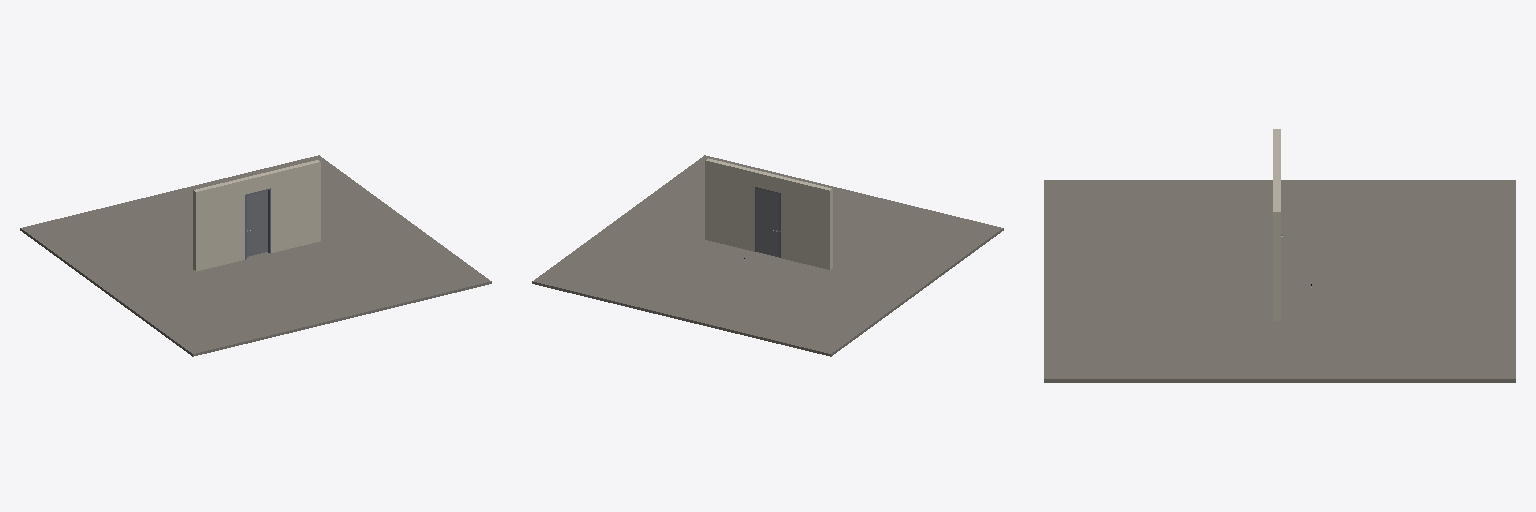
URDF robot description (db0485_swing_single_simple):
<?xml version="1.0" ?>
<robot xmlns:doorbench="https://github.com/adamraudonis/DoorBench/schema/urdf-ext" name="db0485_swing_single_simple">
  <link name="world_env">
    <visual name="floor_vis">
      <origin xyz="0 0 -0.05" rpy="0 0 0"/>
      <geometry>
        <box size="12 12 0.1"/>
      </geometry>
      <material name="mat_floor"/>
    </visual>
    <collision name="floor_col">
      <origin xyz="0 0 -0.05" rpy="0 0 0"/>
      <geometry>
        <box size="12 12 0.1"/>
      </geometry>
    </collision>
    <visual name="wall_left_vis">
      <origin xyz="-1.52025 -0.071 1.5255" rpy="0 0 0"/>
      <geometry>
        <box size="1.9595 0.2 3.051"/>
      </geometry>
      <material name="mat_wall"/>
    </visual>
    <collision name="wall_left_col">
      <origin xyz="-1.52025 -0.071 1.5255" rpy="0 0 0"/>
      <geometry>
        <box size="1.9595 0.2 3.051"/>
      </geometry>
    </collision>
    <visual name="wall_right_vis">
      <origin xyz="1.50525 -0.071 1.5255" rpy="0 0 0"/>
      <geometry>
        <box size="1.9895 0.2 3.051"/>
      </geometry>
      <material name="mat_wall"/>
    </visual>
    <collision name="wall_right_col">
      <origin xyz="1.50525 -0.071 1.5255" rpy="0 0 0"/>
      <geometry>
        <box size="1.9895 0.2 3.051"/>
      </geometry>
    </collision>
    <visual name="wall_header_vis">
      <origin xyz="-0.015 -0.071 2.791" rpy="0 0 0"/>
      <geometry>
        <box size="1.051 0.2 0.52"/>
      </geometry>
      <material name="mat_wall"/>
    </visual>
    <collision name="wall_header_col">
      <origin xyz="-0.015 -0.071 2.791" rpy="0 0 0"/>
      <geometry>
        <box size="1.051 0.2 0.52"/>
      </geometry>
    </collision>
    <visual name="hinge_0_jamb_vis">
      <origin xyz="0.4575 0.029 0.259" rpy="0 0 3.141593"/>
      <geometry>
        <mesh filename="../../hardware/hinge_jamb_e1d088f8dc.obj"/>
      </geometry>
      <material name="mat_hinge"/>
    </visual>
    <visual name="hinge_1_jamb_vis">
      <origin xyz="0.4575 0.029 1.228" rpy="0 0 3.141593"/>
      <geometry>
        <mesh filename="../../hardware/hinge_jamb_e1d088f8dc.obj"/>
      </geometry>
      <material name="mat_hinge"/>
    </visual>
    <visual name="hinge_2_jamb_vis">
      <origin xyz="0.4575 0.029 2.267" rpy="0 0 3.141593"/>
      <geometry>
        <mesh filename="../../hardware/hinge_jamb_e1d088f8dc.obj"/>
      </geometry>
      <material name="mat_hinge"/>
    </visual>
    <visual name="jamb_hinge_vis">
      <origin xyz="0.4855 -0.071 1.2255" rpy="0 0 0"/>
      <geometry>
        <box size="0.05 0.2 2.451"/>
      </geometry>
      <material name="mat_frame"/>
    </visual>
    <collision name="jamb_hinge_col">
      <origin xyz="0.4855 -0.071 1.2255" rpy="0 0 0"/>
      <geometry>
        <box size="0.05 0.2 2.451"/>
      </geometry>
    </collision>
    <visual name="strike_1016_wall_n_vis">
      <origin xyz="-0.5005 -0.09025 1.016" rpy="0 0 0"/>
      <geometry>
        <box size="0.08 0.1615 0.0366"/>
      </geometry>
      <material name="mat_frame"/>
    </visual>
    <collision name="strike_1016_wall_n_col">
      <origin xyz="-0.5005 -0.09025 1.016" rpy="0 0 0"/>
      <geometry>
        <box size="0.08 0.1615 0.0366"/>
      </geometry>
    </collision>
    <visual name="strike_1016_wall_p_vis">
      <origin xyz="-0.5005 0.0175 1.016" rpy="0 0 0"/>
      <geometry>
        <box size="0.08 0.016 0.0366"/>
      </geometry>
      <material name="mat_frame"/>
    </visual>
    <collision name="strike_1016_wall_p_col">
      <origin xyz="-0.5005 0.0175 1.016" rpy="0 0 0"/>
      <geometry>
        <box size="0.08 0.016 0.0366"/>
      </geometry>
    </collision>
    <visual name="strike_1016_ramp_vis">
      <origin xyz="-0.503782 0.018312 1.016" rpy="0 0 0.588003"/>
      <geometry>
        <box size="0.08 0.036056 0.0366"/>
      </geometry>
      <material name="mat_frame"/>
    </visual>
    <collision name="strike_1016_ramp_col">
      <origin xyz="-0.503782 0.018312 1.016" rpy="0 0 0.588003"/>
      <geometry>
        <box size="0.08 0.036056 0.0366"/>
      </geometry>
    </collision>
    <visual name="strike_1016_back_vis">
      <origin xyz="-0.512 0 1.016" rpy="0 0 0"/>
      <geometry>
        <box size="0.057 0.019 0.0366"/>
      </geometry>
      <material name="mat_frame"/>
    </visual>
    <collision name="strike_1016_back_col">
      <origin xyz="-0.512 0 1.016" rpy="0 0 0"/>
      <geometry>
        <box size="0.057 0.019 0.0366"/>
      </geometry>
    </collision>
    <visual name="jamb_strike_0_vis">
      <origin xyz="-0.5005 -0.071 0.49885" rpy="0 0 0"/>
      <geometry>
        <box size="0.08 0.2 0.9977"/>
      </geometry>
      <material name="mat_frame"/>
    </visual>
    <collision name="jamb_strike_0_col">
      <origin xyz="-0.5005 -0.071 0.49885" rpy="0 0 0"/>
      <geometry>
        <box size="0.08 0.2 0.9977"/>
      </geometry>
    </collision>
    <visual name="jamb_strike_1_vis">
      <origin xyz="-0.5005 -0.071 1.74265" rpy="0 0 0"/>
      <geometry>
        <box size="0.08 0.2 1.4167"/>
      </geometry>
      <material name="mat_frame"/>
    </visual>
    <collision name="jamb_strike_1_col">
      <origin xyz="-0.5005 -0.071 1.74265" rpy="0 0 0"/>
      <geometry>
        <box size="0.08 0.2 1.4167"/>
      </geometry>
    </collision>
    <visual name="jamb_head_vis">
      <origin xyz="-0.015 -0.071 2.476" rpy="0 0 0"/>
      <geometry>
        <box size="1.051 0.2 0.05"/>
      </geometry>
      <material name="mat_frame"/>
    </visual>
    <collision name="jamb_head_col">
      <origin xyz="-0.015 -0.071 2.476" rpy="0 0 0"/>
      <geometry>
        <box size="1.051 0.2 0.05"/>
      </geometry>
    </collision>
    <visual name="head_stud_vis">
      <origin xyz="-0.015 -0.071 2.516" rpy="0 0 0"/>
      <geometry>
        <box size="1.051 0.2 0.03"/>
      </geometry>
      <material name="mat_wall"/>
    </visual>
    <collision name="head_stud_col">
      <origin xyz="-0.015 -0.071 2.516" rpy="0 0 0"/>
      <geometry>
        <box size="1.051 0.2 0.03"/>
      </geometry>
    </collision>
    <visual name="stop_hinge_vis">
      <origin xyz="0.455 -0.0385 1.2255" rpy="0 0 0"/>
      <geometry>
        <box size="0.011 0.032 2.451"/>
      </geometry>
      <material name="mat_frame"/>
    </visual>
    <collision name="stop_hinge_col">
      <origin xyz="0.455 -0.0385 1.2255" rpy="0 0 0"/>
      <geometry>
        <box size="0.011 0.032 2.451"/>
      </geometry>
    </collision>
    <visual name="stop_strike_vis">
      <origin xyz="-0.455 -0.0385 1.2255" rpy="0 0 0"/>
      <geometry>
        <box size="0.011 0.032 2.451"/>
      </geometry>
      <material name="mat_frame"/>
    </visual>
    <collision name="stop_strike_col">
      <origin xyz="-0.455 -0.0385 1.2255" rpy="0 0 0"/>
      <geometry>
        <box size="0.011 0.032 2.451"/>
      </geometry>
    </collision>
    <visual name="stop_head_vis">
      <origin xyz="0 -0.0385 2.4455" rpy="0 0 0"/>
      <geometry>
        <box size="0.921 0.032 0.011"/>
      </geometry>
      <material name="mat_frame"/>
    </visual>
    <collision name="stop_head_col">
      <origin xyz="0 -0.0385 2.4455" rpy="0 0 0"/>
      <geometry>
        <box size="0.921 0.032 0.011"/>
      </geometry>
    </collision>
    <visual name="door_stop_base_vis">
      <origin xyz="0.4735 0.8059 0.003" rpy="0 0 0"/>
      <geometry>
        <cylinder radius="0.022" length="0.006"/>
      </geometry>
      <material name="mat_stop_base"/>
    </visual>
    <collision name="door_stop_base_col">
      <origin xyz="0.4735 0.8059 0.003" rpy="0 0 0"/>
      <geometry>
        <cylinder radius="0.022" length="0.006"/>
      </geometry>
    </collision>
    <visual name="door_stop_post_vis">
      <origin xyz="0.4735 0.8059 0.0305" rpy="0 0 0"/>
      <geometry>
        <cylinder radius="0.012" length="0.049"/>
      </geometry>
      <material name="mat_stop_base"/>
    </visual>
    <collision name="door_stop_post_col">
      <origin xyz="0.4735 0.8059 0.0305" rpy="0 0 0"/>
      <geometry>
        <cylinder radius="0.012" length="0.049"/>
      </geometry>
    </collision>
    <visual name="door_stop_bumper_vis">
      <origin xyz="0.4735 0.8059 0.075" rpy="0 0 0"/>
      <geometry>
        <cylinder radius="0.022" length="0.04"/>
      </geometry>
      <material name="mat_bumper_stop"/>
    </visual>
    <collision name="door_stop_bumper_col">
      <origin xyz="0.4735 0.8059 0.075" rpy="0 0 0"/>
      <geometry>
        <cylinder radius="0.022" length="0.04"/>
      </geometry>
    </collision>
  </link>
  <link name="leaf">
    <inertial>
      <origin xyz="-0.451196 -0.028767 1.228241" rpy="0 0 0"/>
      <mass value="56.128299"/>
      <inertia ixx="27.933484303" ixy="-0.005889476" ixz="-0.009272881" iyy="31.93375781" iyz="-0.000301377" izz="4.018955296"/>
    </inertial>
    <visual name="leaf_slab_vis">
      <origin xyz="-0.457 -0.029 1.228" rpy="0 0 0"/>
      <geometry>
        <box size="0.914 0.044 2.438"/>
      </geometry>
      <material name="mat_leaf"/>
    </visual>
    <collision name="leaf_slab_col">
      <origin xyz="-0.457 -0.029 1.228" rpy="0 0 0"/>
      <geometry>
        <box size="0.914 0.044 2.438"/>
      </geometry>
    </collision>
    <visual name="hinge_0_vis">
      <origin xyz="0 0 0.259" rpy="0 0 3.141593"/>
      <geometry>
        <mesh filename="../../hardware/hinge_e22b26c0c1.obj"/>
      </geometry>
      <material name="mat_hinge"/>
    </visual>
    <visual name="hinge_1_vis">
      <origin xyz="0 0 1.228" rpy="0 0 3.141593"/>
      <geometry>
        <mesh filename="../../hardware/hinge_e22b26c0c1.obj"/>
      </geometry>
      <material name="mat_hinge"/>
    </visual>
    <visual name="hinge_2_vis">
      <origin xyz="0 0 2.267" rpy="0 0 3.141593"/>
      <geometry>
        <mesh filename="../../hardware/hinge_e22b26c0c1.obj"/>
      </geometry>
      <material name="mat_hinge"/>
    </visual>
    <visual name="leaf_latch_bolt_faceplate_vis">
      <origin xyz="-0.9134 -0.029 1.016" rpy="0 0 0"/>
      <geometry>
        <box size="0.0012 0.028 0.0566"/>
      </geometry>
      <material name="mat_bolt"/>
    </visual>
  </link>
  <link name="leaf_handle">
    <inertial>
      <origin xyz="0.030188 0 0" rpy="0 0 0"/>
      <mass value="0.924918"/>
      <inertia ixx="0.003587995" ixy="0" ixz="0" iyy="0.001725188" iyz="0" izz="0.005135939"/>
    </inertial>
    <visual name="leaf_handle_lever_n_vis">
      <origin xyz="0 -0.022 0" rpy="-1.570796 0 3.141593"/>
      <geometry>
        <mesh filename="../../hardware/lever_9f02b544cf.obj"/>
      </geometry>
      <material name="mat_op_nickel_satin"/>
    </visual>
    <collision name="leaf_handle_lever_col_n_col">
      <origin xyz="0.0625 -0.077 0" rpy="0 1.570796 0"/>
      <geometry>
        <cylinder radius="0.0095" length="0.106"/>
      </geometry>
    </collision>
    <collision name="leaf_handle_hub_col_n_col">
      <origin xyz="0 -0.052 0" rpy="-1.570796 0 0"/>
      <geometry>
        <cylinder radius="0.012" length="0.044"/>
      </geometry>
    </collision>
    <visual name="leaf_handle_lever_p_vis">
      <origin xyz="0 0.022 0" rpy="1.570796 0 3.141593"/>
      <geometry>
        <mesh filename="../../hardware/lever_9f02b544cf.obj"/>
      </geometry>
      <material name="mat_op_nickel_satin"/>
    </visual>
    <collision name="leaf_handle_lever_col_p_col">
      <origin xyz="0.0625 0.077 0" rpy="0 1.570796 0"/>
      <geometry>
        <cylinder radius="0.0095" length="0.106"/>
      </geometry>
    </collision>
    <collision name="leaf_handle_hub_col_p_col">
      <origin xyz="0 0.052 0" rpy="-1.570796 0 0"/>
      <geometry>
        <cylinder radius="0.012" length="0.044"/>
      </geometry>
    </collision>
  </link>
  <link name="leaf_latch_bolt">
    <inertial>
      <origin xyz="0.0055 0 0" rpy="0 0 0"/>
      <mass value="0.074627"/>
      <inertia ixx="0.000002271" ixy="0" ixz="0" iyy="0.000013255" iyz="0" izz="0.000013255"/>
    </inertial>
    <visual name="leaf_latch_bolt_capsule_vis">
      <origin xyz="0.0055 0 0" rpy="0 -1.570796 0"/>
      <geometry>
        <cylinder radius="0.008" length="0.033"/>
      </geometry>
      <material name="mat_bolt"/>
    </visual>
    <collision name="leaf_latch_bolt_capsule_col">
      <origin xyz="0.0055 0 0" rpy="0 -1.570796 0"/>
      <geometry>
        <cylinder radius="0.008" length="0.033"/>
      </geometry>
    </collision>
  </link>
  <joint name="leaf_hinge" type="revolute">
    <origin xyz="0.4575 0.029 0" rpy="0 0 0"/>
    <parent link="world_env"/>
    <child link="leaf"/>
    <axis xyz="0 0 -1"/>
    <limit lower="0" upper="1.570796" effort="2000" velocity="10"/>
    <dynamics damping="2.307281" friction="2.306359"/>
    <doorbench:spring stiffness="6.6" springref="-0.454283" note="tau = -stiffness*(q - springref); not native URDF"/>
    <doorbench:closer damping_closing="2" damping_opening="2" backcheck_angle="0" backcheck_damping="0"/>
  </joint>
  <joint name="leaf_handle_hinge" type="revolute">
    <origin xyz="-0.844 -0.029 1.016" rpy="0 0 0"/>
    <parent link="leaf"/>
    <child link="leaf_handle"/>
    <axis xyz="0 1 0"/>
    <limit lower="0" upper="0.96" effort="2000" velocity="10"/>
    <dynamics damping="0.245624" friction="0.048"/>
    <doorbench:spring stiffness="1.2" springref="-0.458333" note="tau = -stiffness*(q - springref); not native URDF"/>
  </joint>
  <joint name="leaf_latch_bolt_slide" type="prismatic">
    <origin xyz="-0.914 -0.029 1.016" rpy="0 0 0"/>
    <parent link="leaf"/>
    <child link="leaf_latch_bolt"/>
    <axis xyz="1 0 0"/>
    <limit lower="0" upper="0.019" effort="5000" velocity="10"/>
    <dynamics damping="2" friction="0.3"/>
    <doorbench:spring stiffness="600" springref="-0.01" note="tau = -stiffness*(q - springref); not native URDF"/>
    <mimic joint="leaf_handle_hinge" multiplier="0.020879" offset="0"/>
    <doorbench:coupling one_sided="true" note="MJCF uses a one-sided tendon (bolt may retract further, e.g. riding over the strike lip); mimic is bilateral"/>
  </joint>
  <material name="mat_bolt">
    <color rgba="0.85 0.66 0.3 1"/>
  </material>
  <material name="mat_bumper_stop">
    <color rgba="0.08 0.08 0.08 1"/>
  </material>
  <material name="mat_floor">
    <color rgba="0.55 0.53 0.5 1"/>
  </material>
  <material name="mat_frame">
    <color rgba="0.45 0.48 0.52 1"/>
  </material>
  <material name="mat_hinge">
    <color rgba="0.65 0.66 0.68 1"/>
  </material>
  <material name="mat_leaf">
    <color rgba="0.5 0.51 0.53 1"/>
  </material>
  <material name="mat_op_nickel_satin">
    <color rgba="0.72 0.7 0.66 1"/>
  </material>
  <material name="mat_stop_base">
    <color rgba="0.9 0.9 0.92 1"/>
  </material>
  <material name="mat_wall">
    <color rgba="0.78 0.76 0.7 1"/>
  </material>
</robot>

--- Render facts (derived) ---
Views: 3 orthographic renders of the robot side by side, from view 1: azimuth 30°, elevation 25°; view 2: azimuth 150°, elevation 25°; view 3: azimuth 270°, elevation 25°.
Model db0485_swing_single_simple with 4 links and 3 joints (2 revolute, 1 prismatic), rooted at world_env, posed all joints at 0.
Links seen in each view (by area): view 1: world_env, leaf; view 2: world_env, leaf; view 3: world_env.
Boxes of the visible links, x1,y1,x2,y2 form: world_env: (20, 155, 491, 356); leaf: (247, 190, 267, 256); world_env: (532, 155, 1003, 356); leaf: (756, 188, 778, 256); world_env: (1044, 129, 1515, 382).
Size in the robot's own frame: 12 by 12 by 3.15 metres.
8 mesh visuals loaded from 3 distinct referenced files (3 OBJ).
